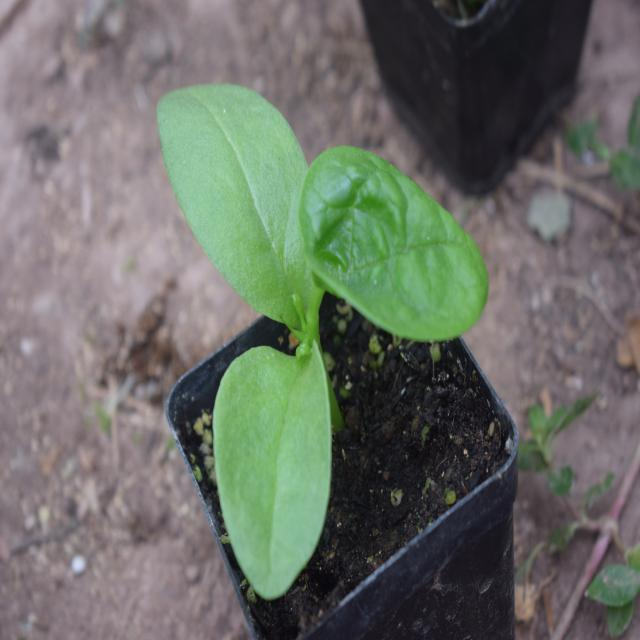Ceylon spinach: (152, 60, 479, 600)
